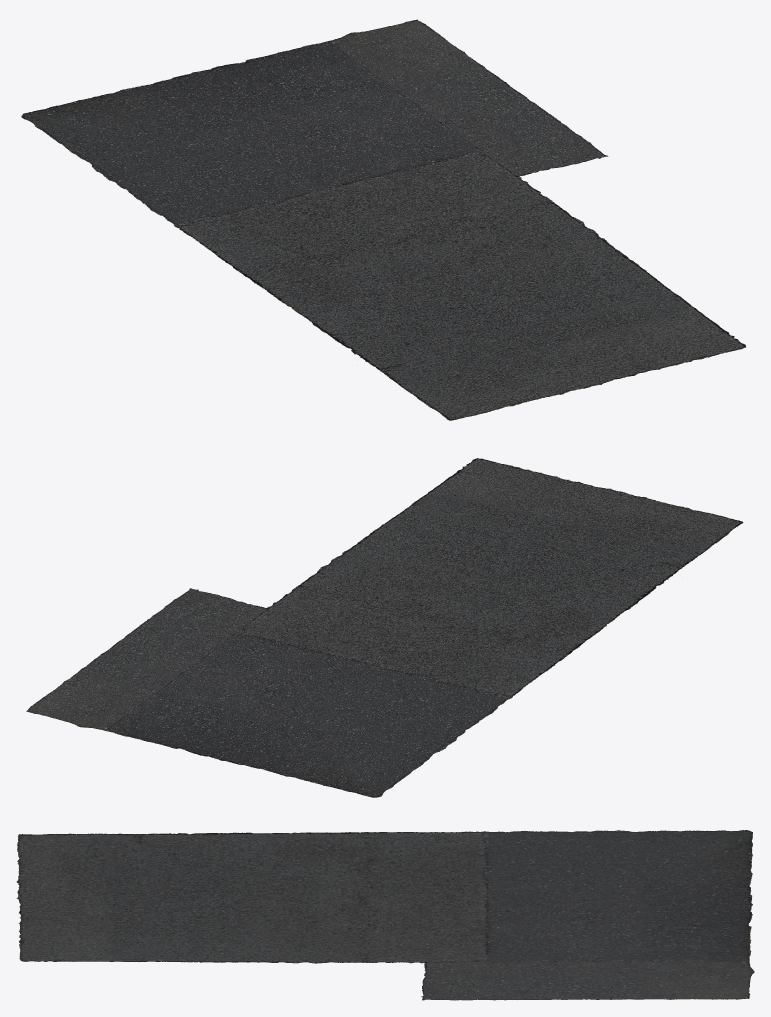
Rendered from jcGrdAsphaltPatchB.fbx.
3 views of the same model, one above another, from view 1: azimuth 30°, elevation 25°; view 2: azimuth 150°, elevation 25°; view 3: azimuth 270°, elevation 25° (orthographic). The views are drawn at different scales.
Parts seen in each view (by area): view 1: jcGrdAsphaltPatchB; view 2: jcGrdAsphaltPatchB; view 3: jcGrdAsphaltPatchB.
Part boxes in pixels (box(x1,y1,x2,y2)): jcGrdAsphaltPatchB: box(21, 19, 745, 420); jcGrdAsphaltPatchB: box(26, 458, 743, 797); jcGrdAsphaltPatchB: box(16, 830, 754, 1000).
Bounding box in the file's own units: 420 × 0 × 761.
